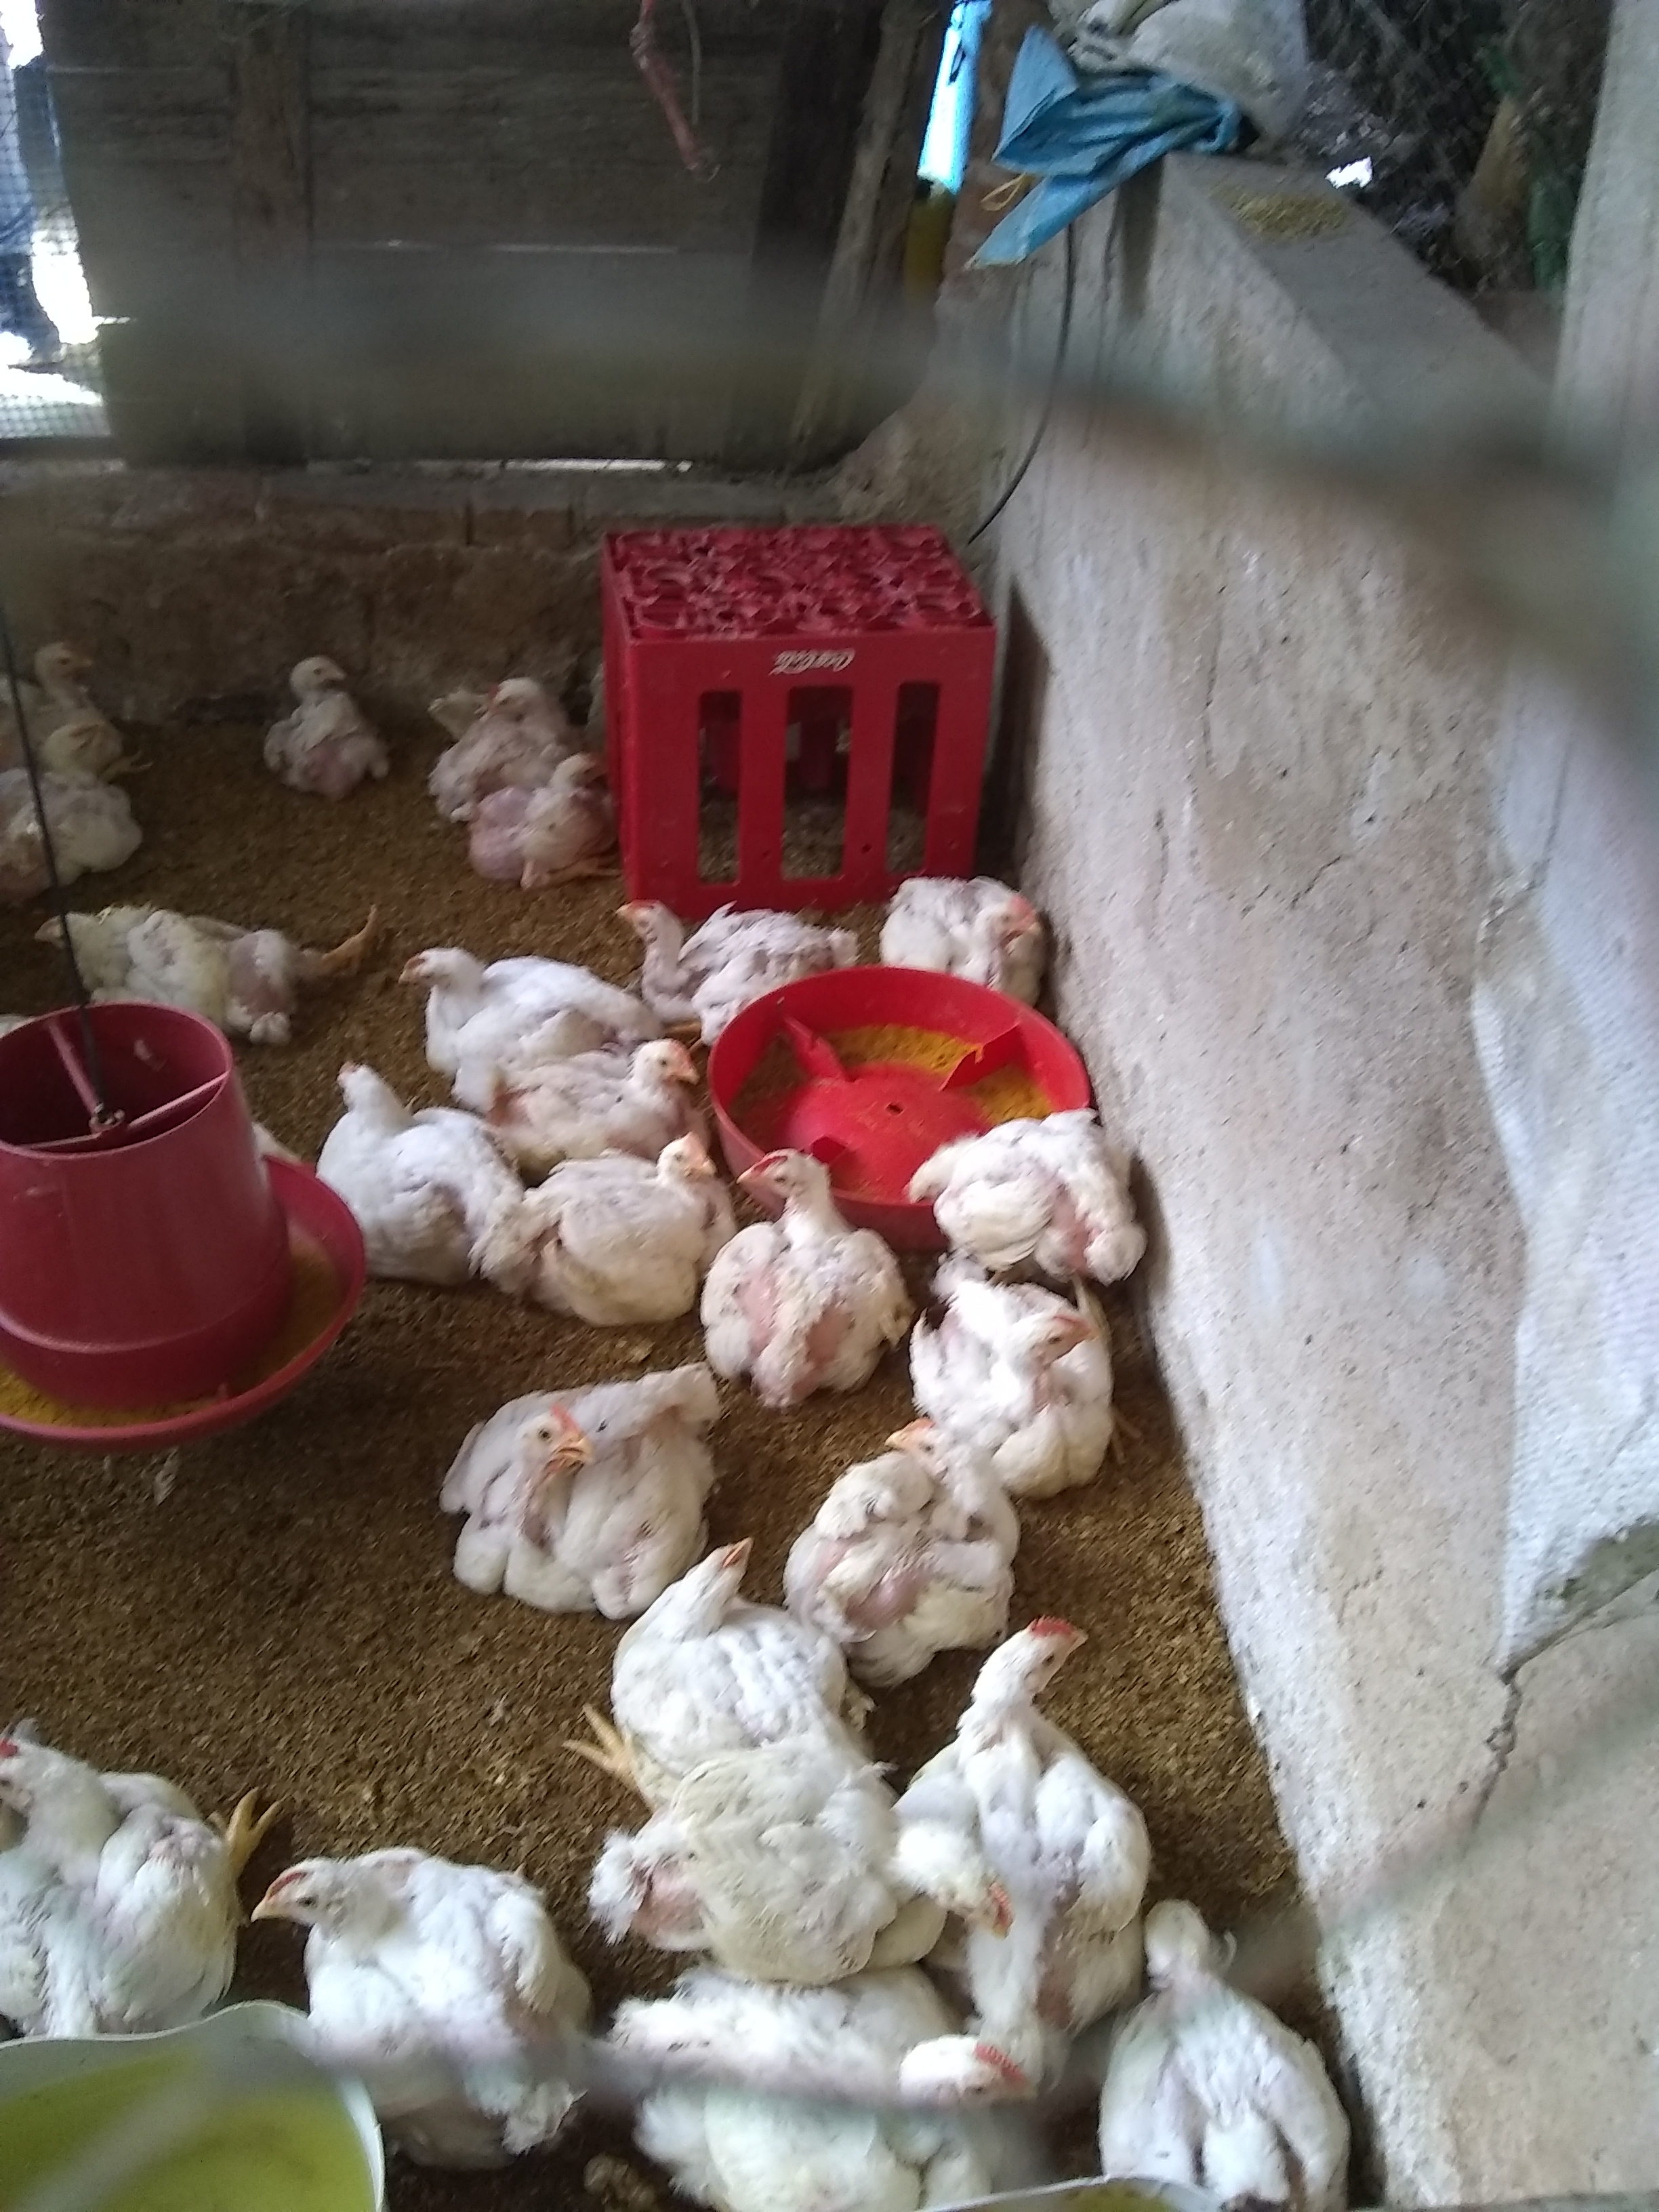Pollos: (575, 1949, 1051, 2212), (254, 1825, 601, 2161), (615, 1728, 1014, 1980), (920, 1609, 1154, 2026), (0, 1726, 296, 2040), (1101, 1904, 1384, 2212), (577, 1524, 854, 1775), (448, 1360, 728, 1599), (789, 1402, 1023, 1677), (24, 883, 326, 1087), (917, 1263, 1129, 1515), (718, 1148, 920, 1400), (319, 1049, 525, 1294), (537, 1118, 748, 1329), (606, 873, 870, 1036), (938, 1109, 1157, 1284), (397, 932, 615, 1099), (889, 834, 1063, 1026), (0, 714, 141, 932), (519, 1026, 711, 1158), (263, 637, 403, 799), (464, 744, 633, 867), (429, 636, 568, 773), (0, 617, 119, 725)
